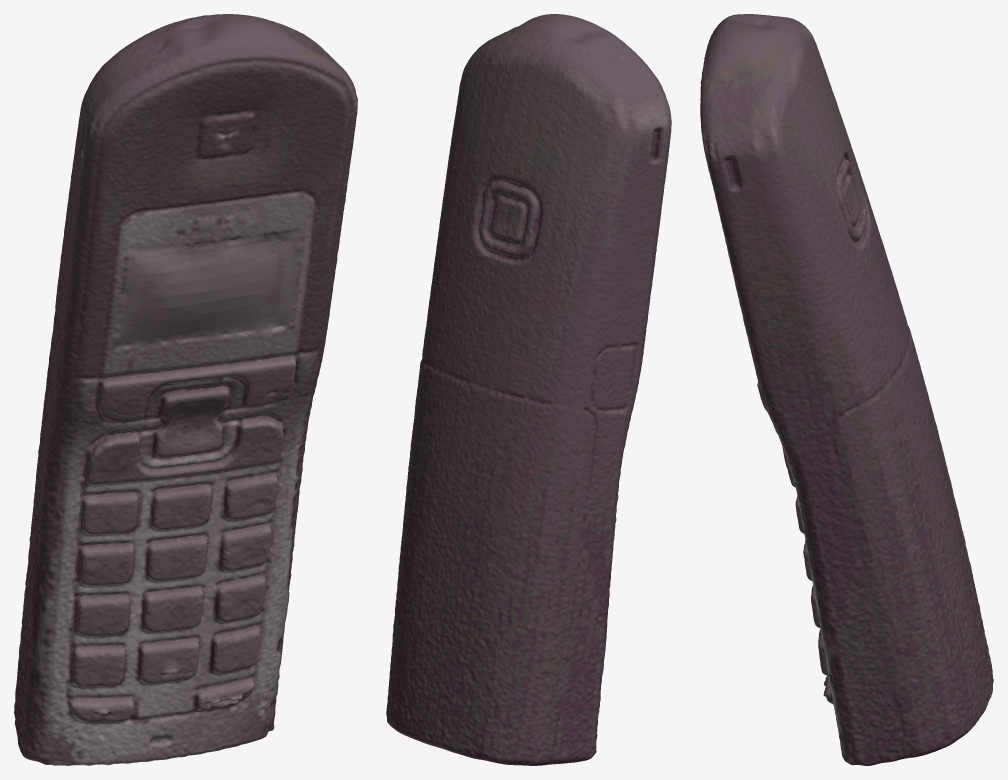
Rendered from scene_mobile.glb.
3 views of the same model, side by side, from view 1: azimuth 30°, elevation 25°; view 2: azimuth 150°, elevation 25°; view 3: azimuth 270°, elevation 25° (orthographic). The views are drawn at different scales.
Bounding box in the file's own units: 49.8 × 152 × 57.89.
